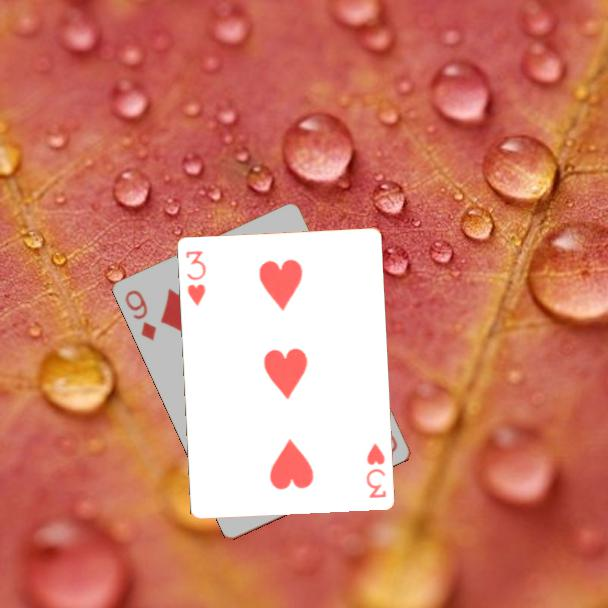d09: (122, 286, 160, 344)
h03: (182, 247, 208, 309), (362, 439, 388, 501)
